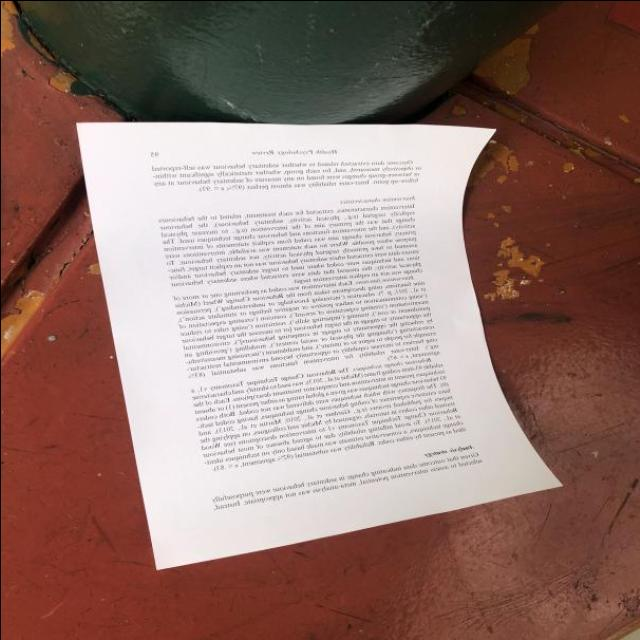kertas: (71, 48, 561, 570)
